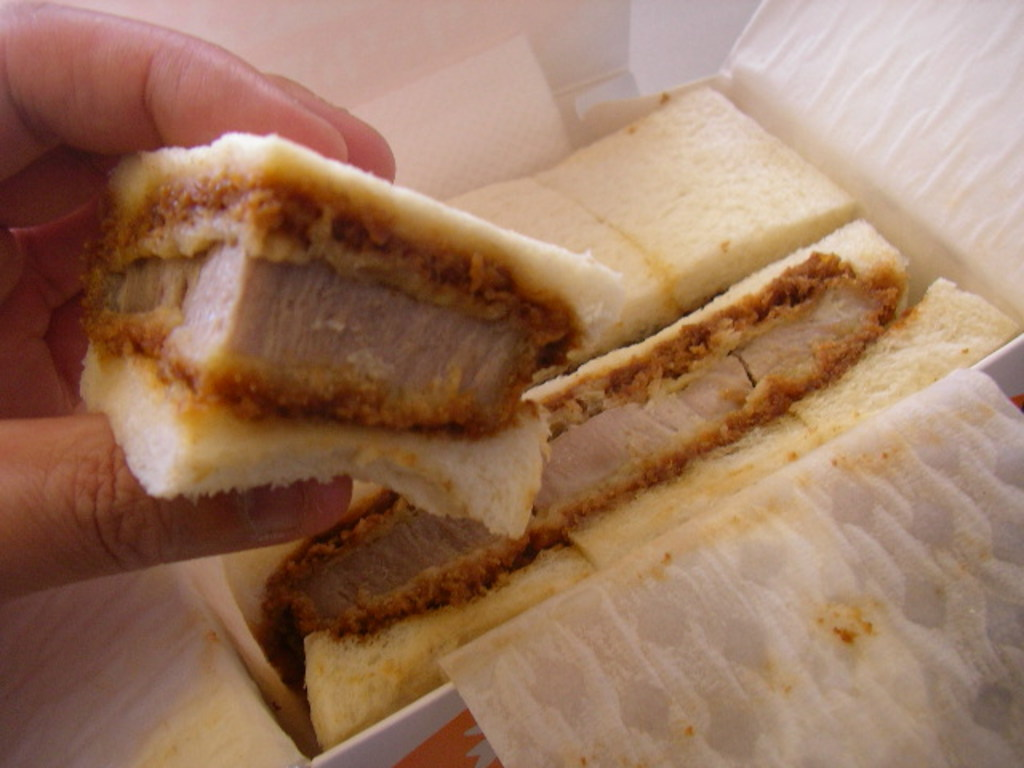sandwich: (219, 214, 1019, 757), (66, 131, 624, 533), (437, 78, 846, 381)
